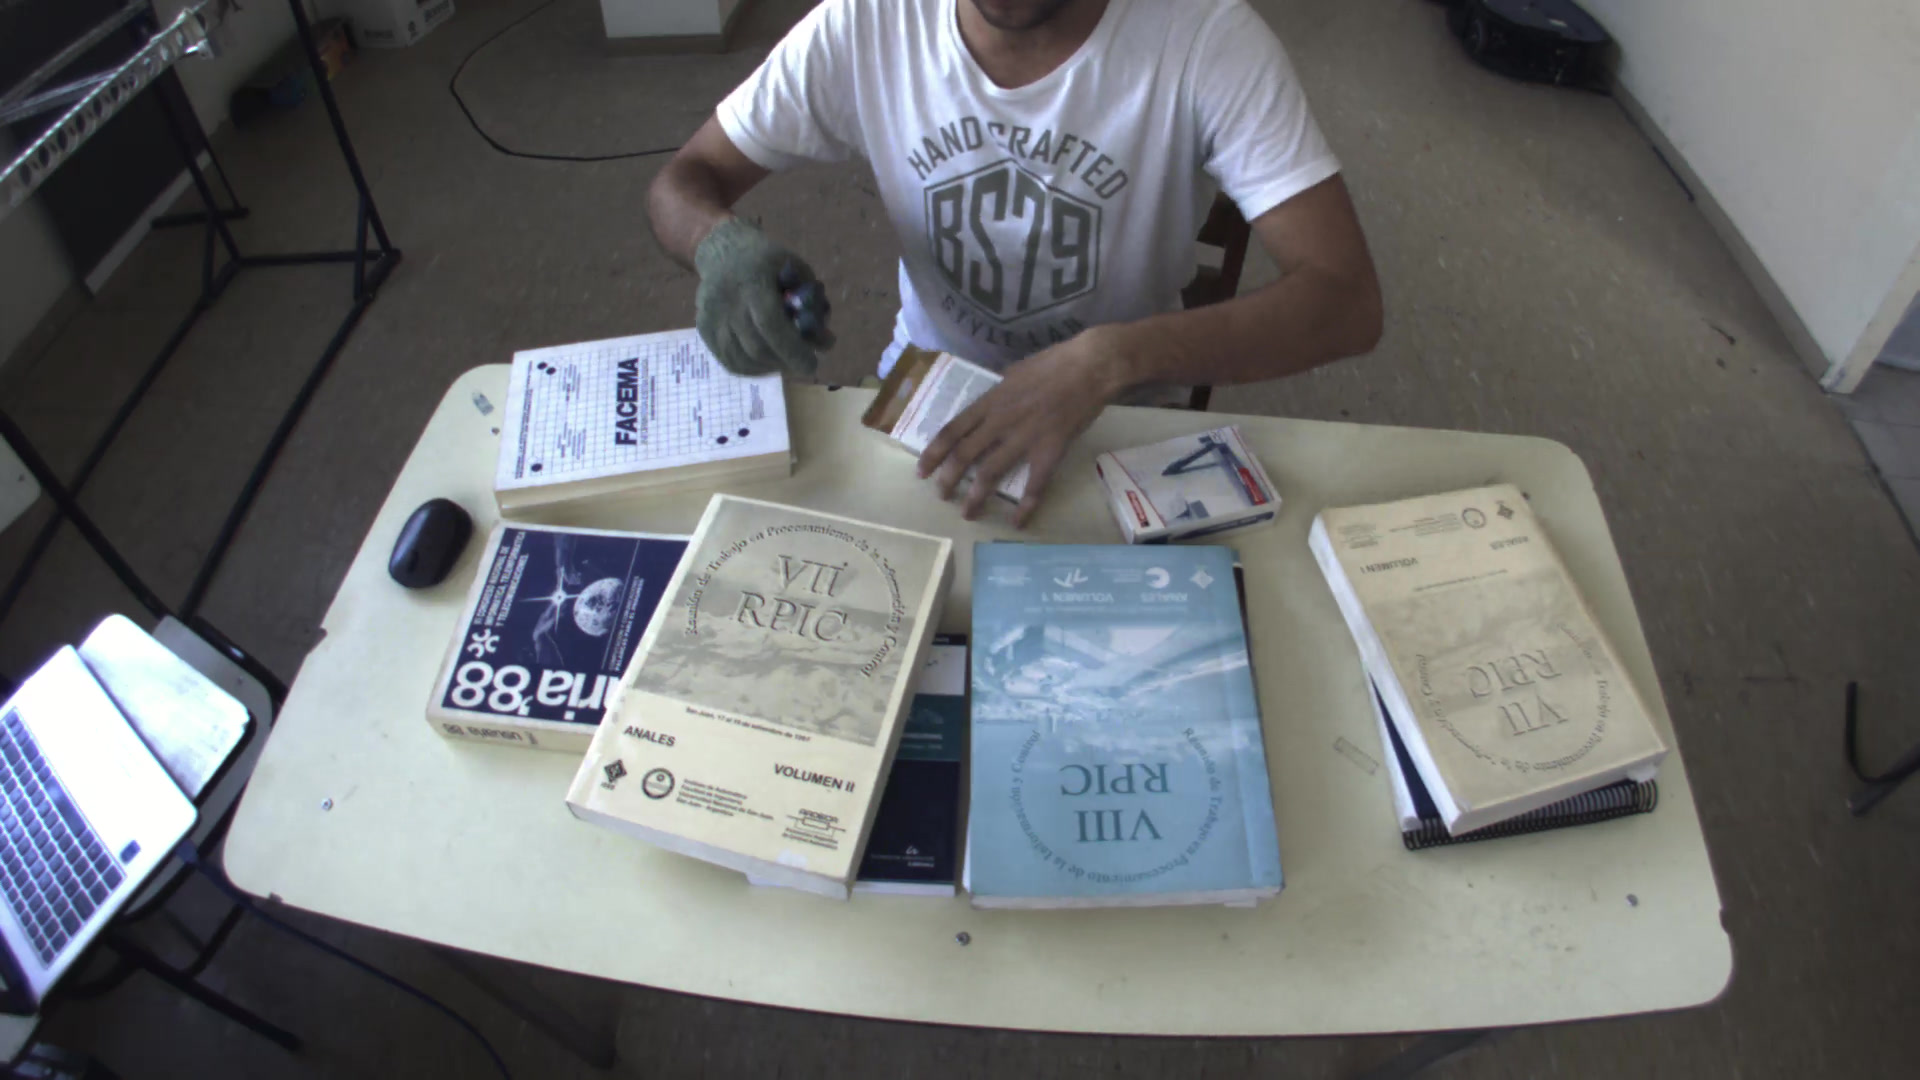hand: (903, 342, 1106, 520), (675, 212, 829, 382)
